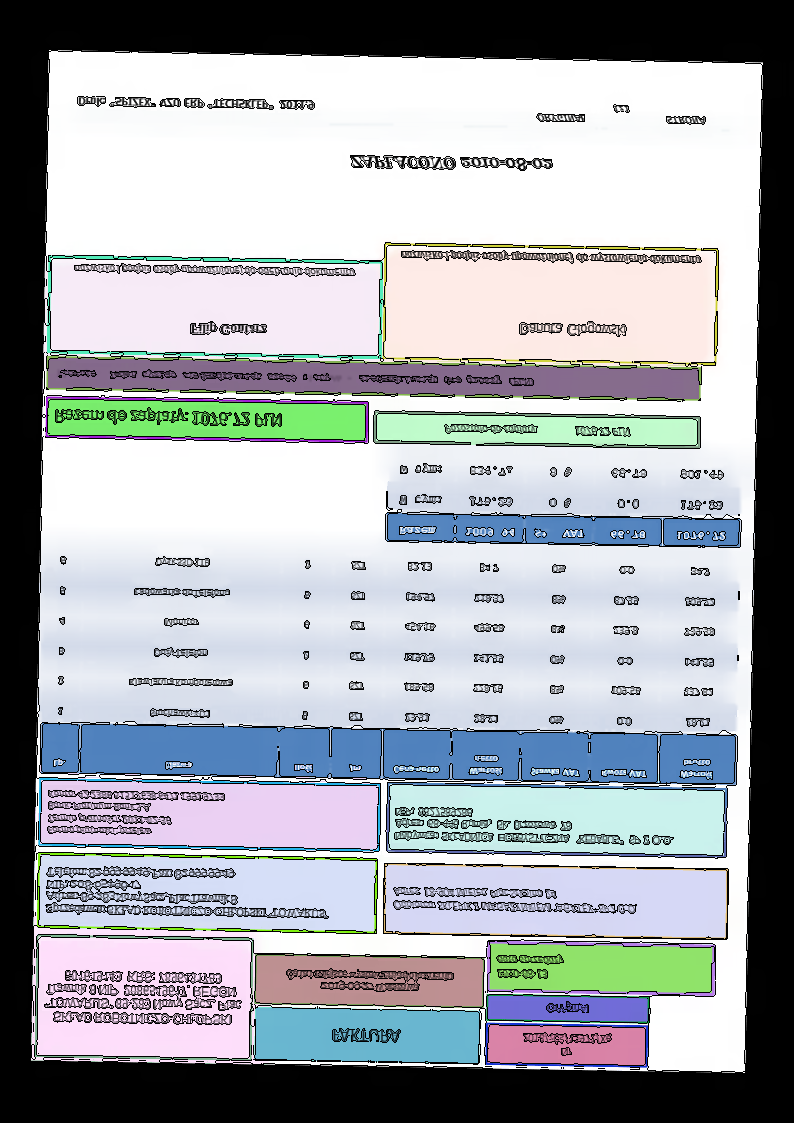Table: (39, 539, 739, 787), (385, 450, 744, 548)
TextBox: (42, 864, 330, 922), (392, 805, 678, 848), (41, 968, 244, 1027), (54, 367, 534, 389), (45, 786, 226, 840), (391, 884, 640, 915), (399, 249, 702, 268), (54, 406, 284, 430), (72, 261, 356, 279), (283, 967, 457, 995), (345, 151, 555, 174), (76, 94, 317, 112), (535, 102, 708, 126), (443, 421, 633, 439), (520, 1029, 614, 1058), (518, 318, 627, 338), (494, 953, 566, 982), (329, 1024, 402, 1045), (188, 321, 268, 338), (544, 1000, 591, 1017)
